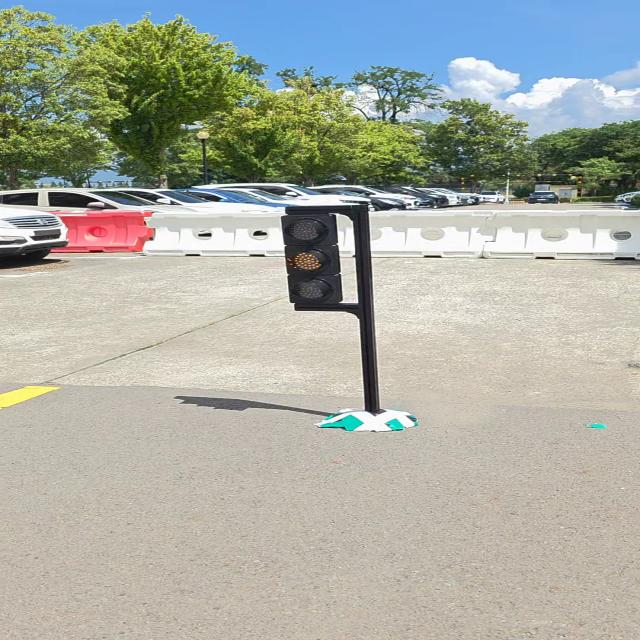yellow: (279, 213, 344, 304)
